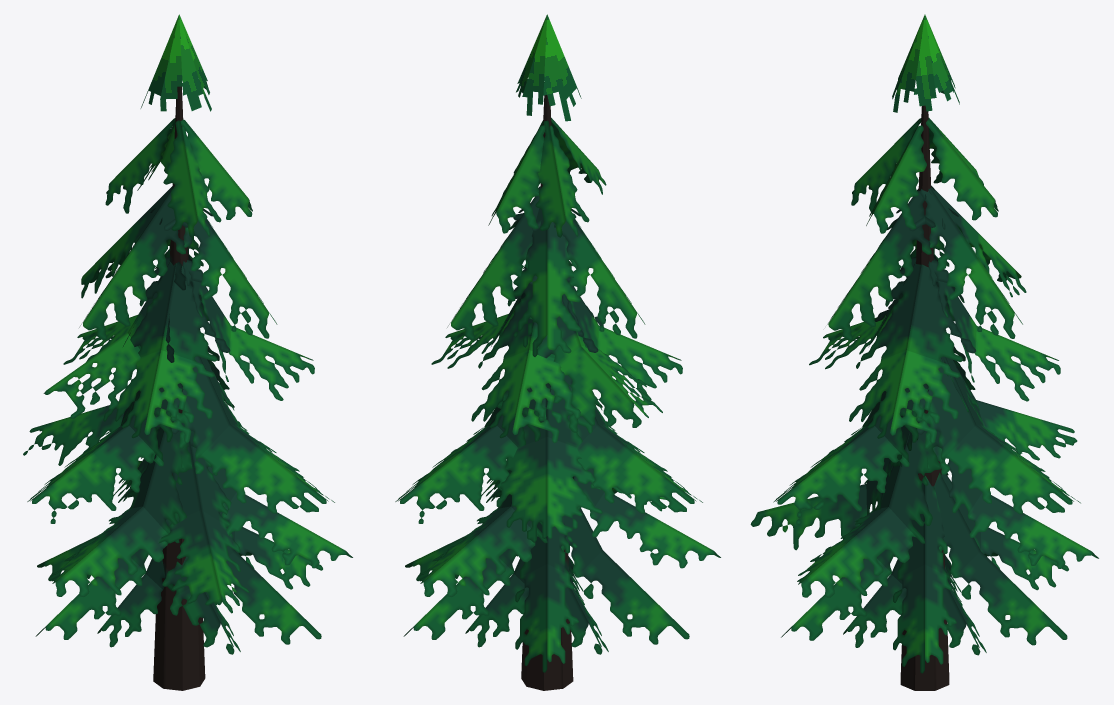
The model's file is tree2_1.fbx.
The picture shows the model from 3 angles, left to right: view 1: azimuth 30°, elevation 25°; view 2: azimuth 150°, elevation 25°; view 3: azimuth 270°, elevation 25°; orthographic projection.
Parts seen in each view (by area): view 1: branch_19, branch_16, branch_23, branch_20, branch_15, trunk, branch_13, branch, branch_24, branch_14, branch_22, branch_25 (+12 smaller); view 2: branch_11, branch_10, branch_4, branch_12, branch_15, branch_14, branch_9, branch_27, branch_5, branch_16, branch_3, branch_13 (+11 smaller); view 3: branch, branch_24, branch_4, branch_1, branch_23, branch_6, branch_5, branch_22, branch_3, branch_10, branch_20, trunk (+11 smaller).
Part boxes in pixels (x1,y1,x2,y2): branch_19: (103, 257, 230, 443); branch_16: (52, 423, 195, 596); branch_23: (171, 356, 334, 513); branch_20: (148, 415, 249, 613); branch_15: (27, 383, 183, 523); trunk: (153, 86, 205, 690); branch_13: (79, 191, 187, 340); branch: (182, 261, 314, 400); branch_24: (171, 421, 352, 568); branch_14: (43, 262, 185, 418); branch_22: (164, 219, 277, 338); branch_25: (226, 546, 321, 644); branch_11: (496, 375, 602, 548); branch_10: (471, 268, 598, 443); branch_4: (395, 383, 551, 523); branch_12: (515, 516, 578, 672); branch_15: (539, 391, 702, 513); branch_14: (527, 275, 662, 432); branch_9: (513, 186, 581, 356); branch_27: (561, 508, 689, 644); branch_5: (420, 490, 547, 596); branch_16: (573, 468, 720, 568); branch_3: (447, 196, 555, 340); branch_13: (532, 219, 645, 338); branch: (849, 257, 975, 443); branch_24: (797, 413, 941, 597); branch_4: (917, 357, 1080, 514); branch_1: (893, 475, 956, 673); branch_23: (773, 383, 928, 524); branch_6: (934, 472, 1067, 645); branch_5: (917, 421, 1098, 568); branch_22: (827, 188, 935, 340); branch_3: (909, 188, 1022, 338); branch_10: (928, 260, 1060, 401); branch_20: (750, 409, 925, 550); trunk: (900, 105, 949, 690).
Bounding box in the file's own units: 352 × 756 × 359.
3 materials, 3 textured.
